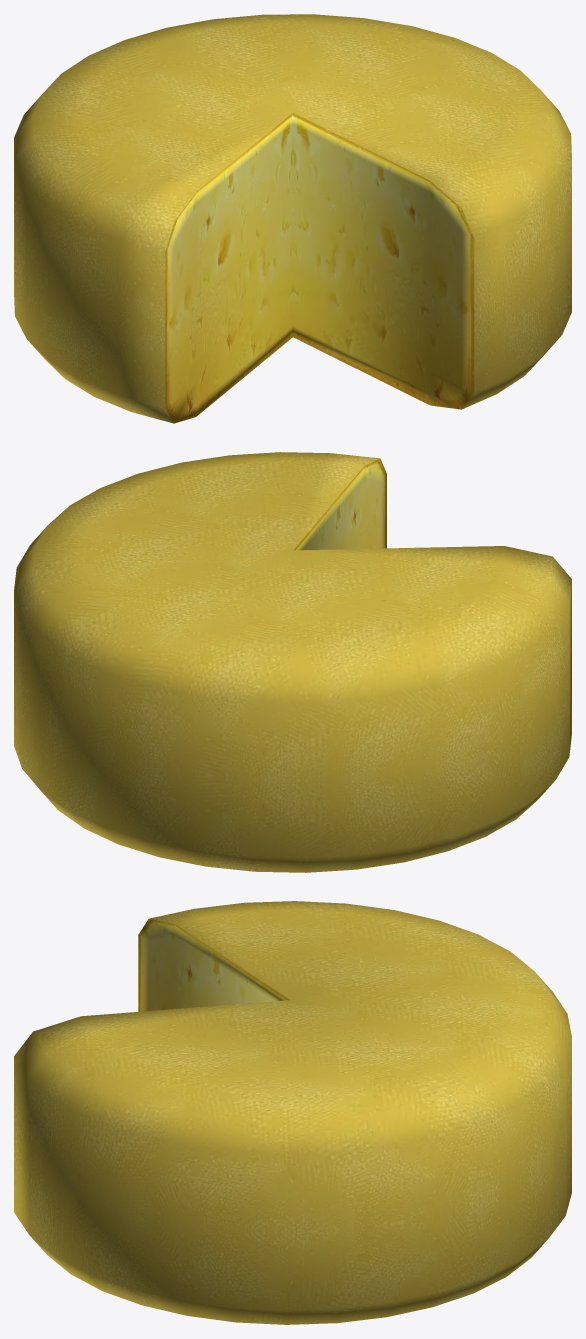
File: Food_Cheese.glb
The picture shows the model from 3 angles, top to bottom: view 1: azimuth 30°, elevation 25°; view 2: azimuth 150°, elevation 25°; view 3: azimuth 270°, elevation 25°; orthographic projection.
Visible parts, largest first — view 1: Food_Cheese; view 2: Food_Cheese; view 3: Food_Cheese.
Boxes of the visible parts, x1,y1,x2,y2 form: Food_Cheese: [14, 14, 571, 423]; Food_Cheese: [14, 452, 571, 872]; Food_Cheese: [14, 901, 571, 1324].
Size of the model in its own units: 0.2976 by 0.1318 by 0.2952.
1 material, 1 textured.
